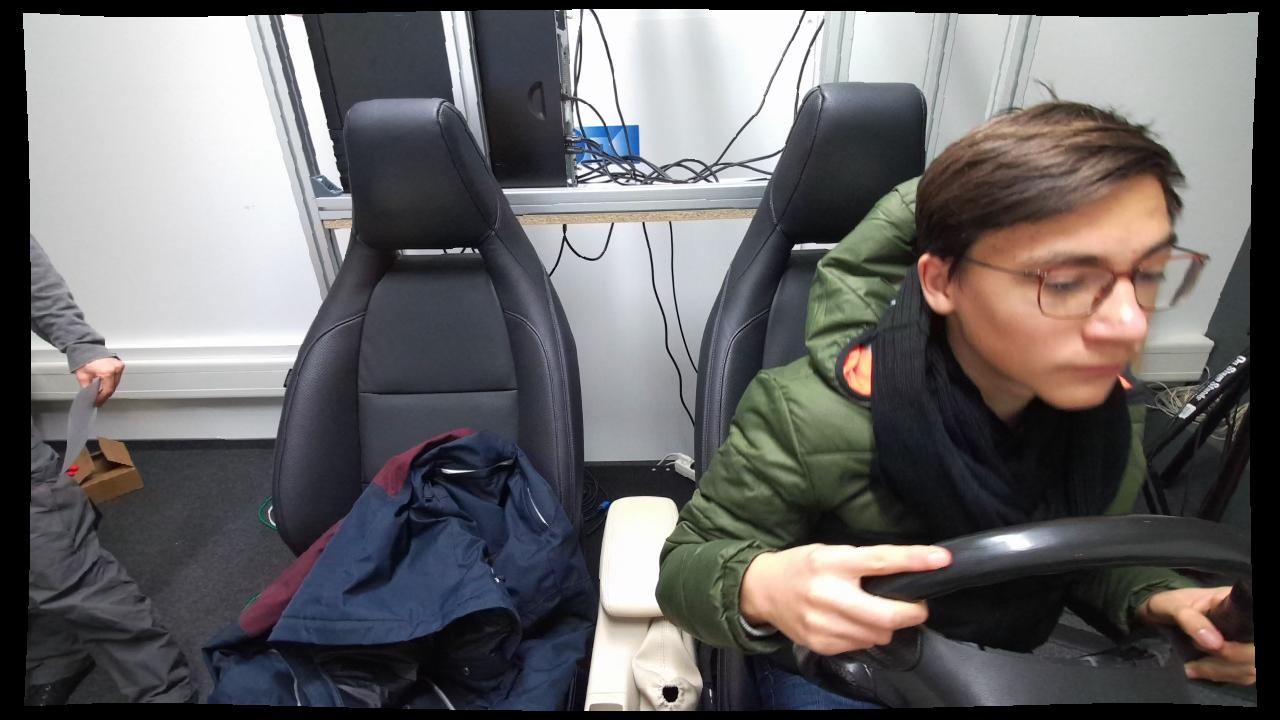Distracted: (651, 89, 1219, 717)
